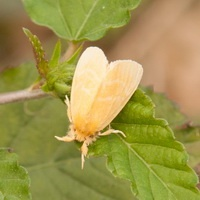insect: (55, 47, 142, 168)
